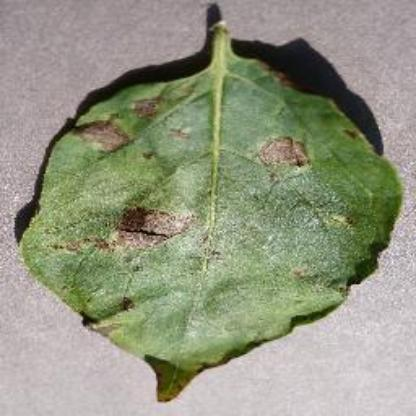Early-Blight: (18, 20, 406, 402)
